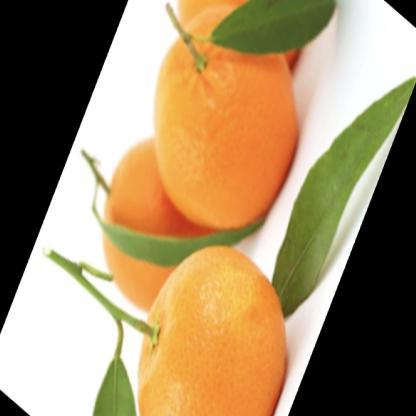fresh: (95, 5, 306, 416)
